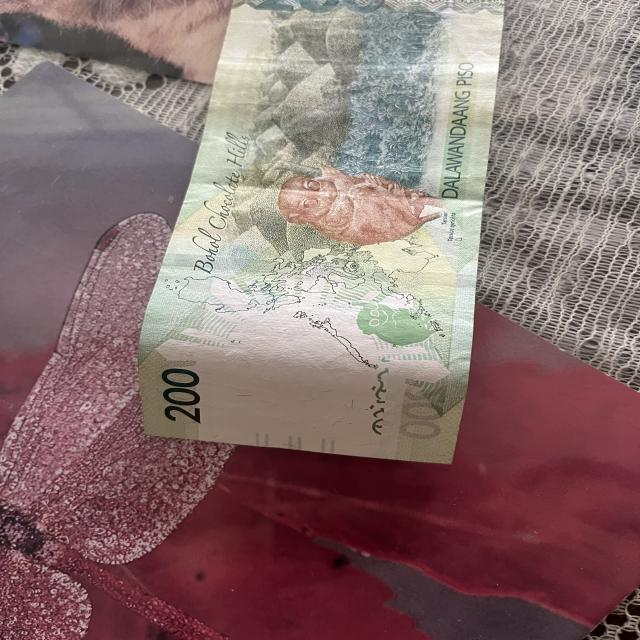200_tarsier: (236, 146, 441, 268)
200_tarsier_watermark: (348, 292, 456, 357)
